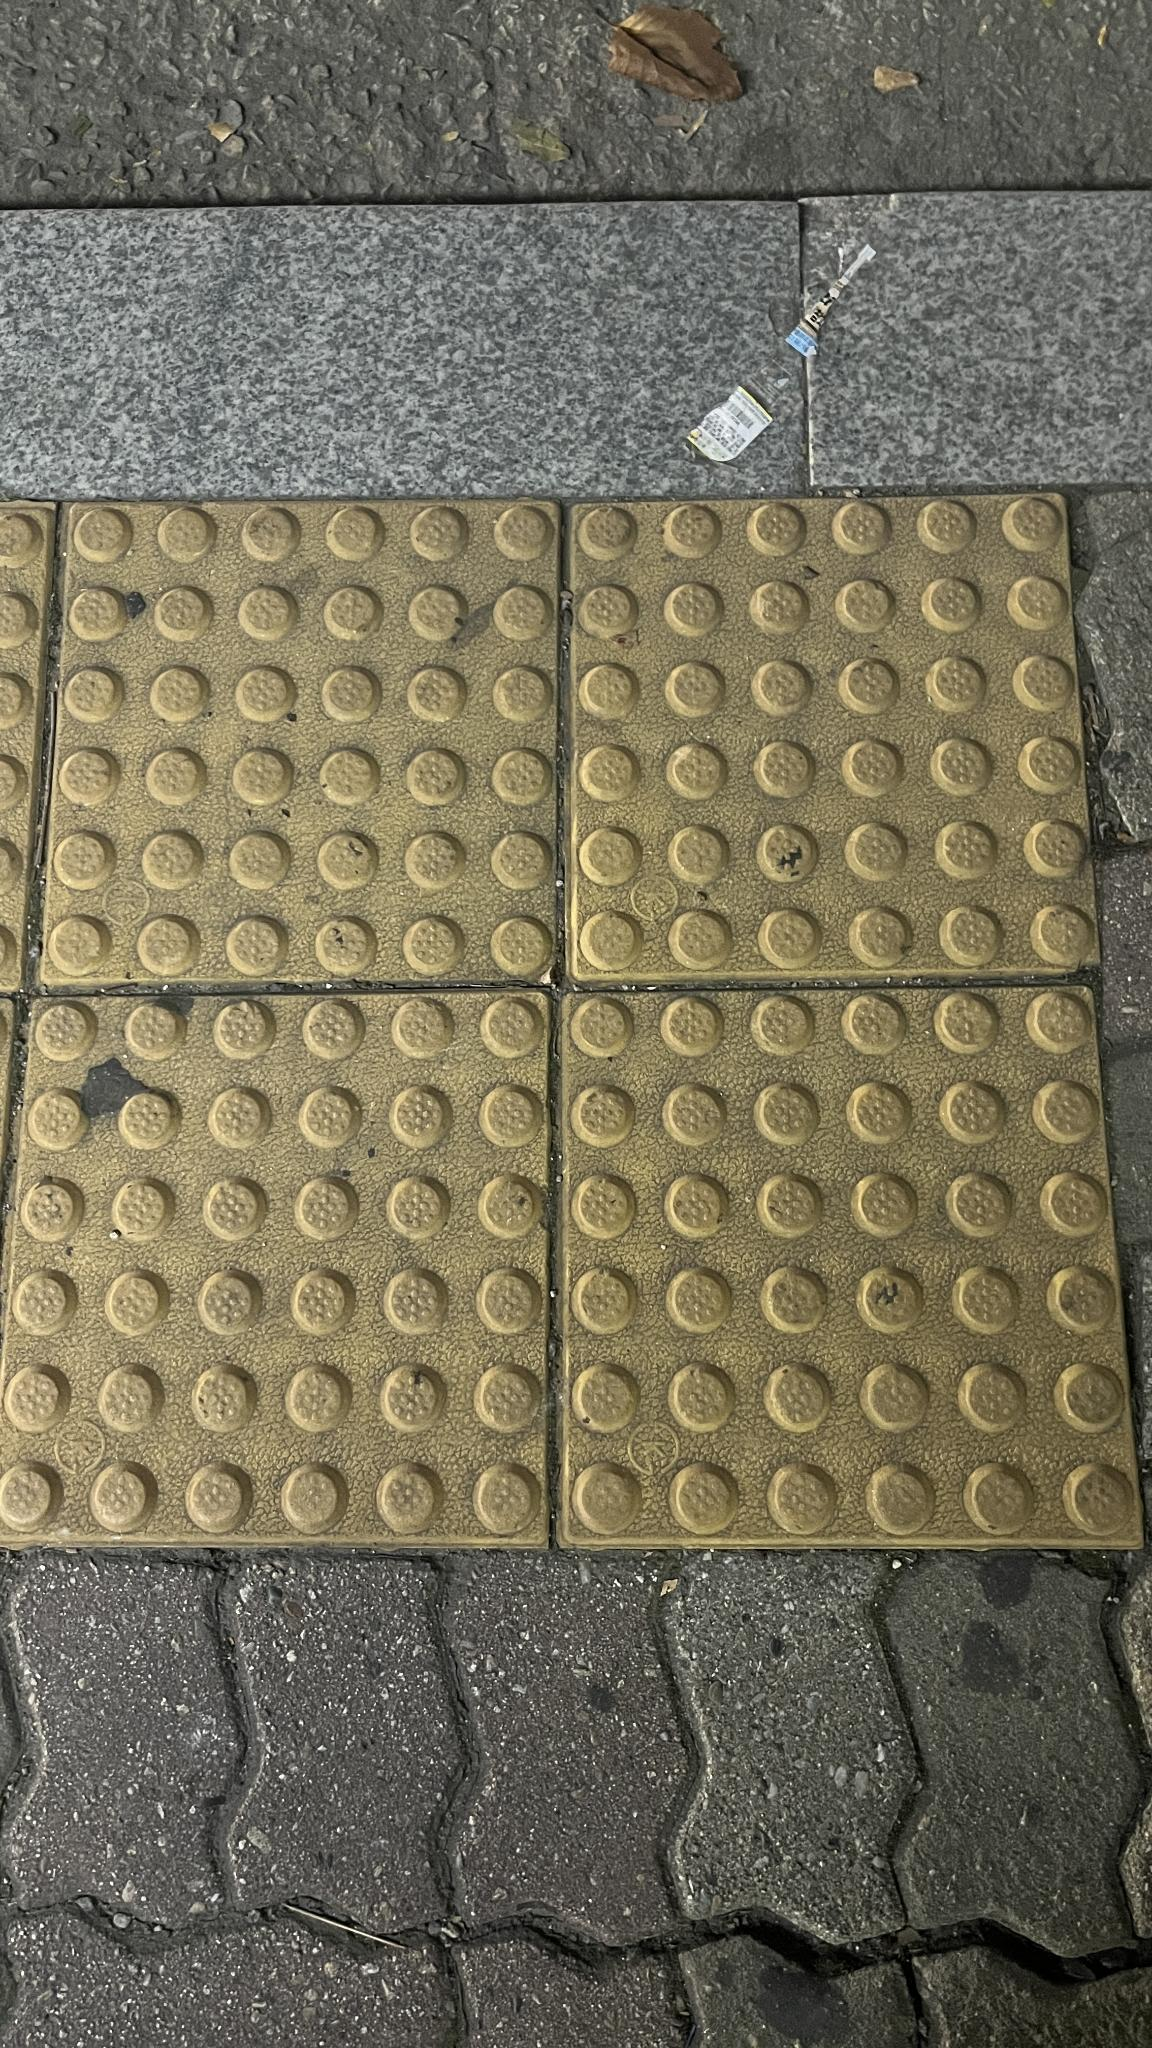Stop block normal: (564, 986, 1139, 1543)
